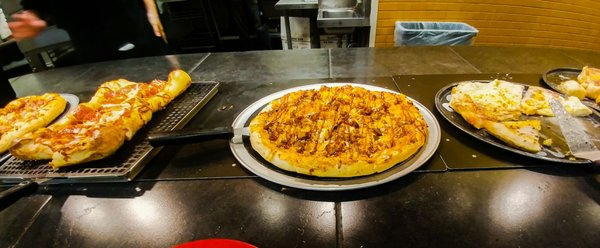curry: (2, 36, 600, 244)
sandwich: (8, 68, 192, 168), (247, 83, 428, 177), (447, 78, 596, 160), (0, 92, 68, 154)
